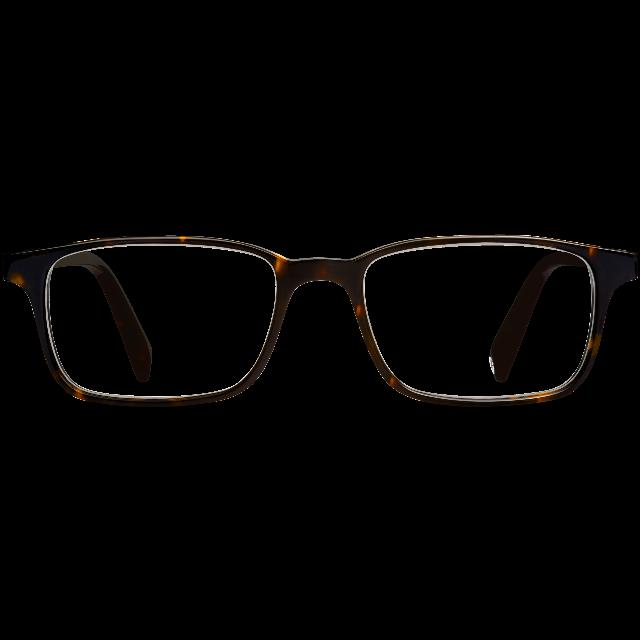glasses: (1, 228, 640, 412)
